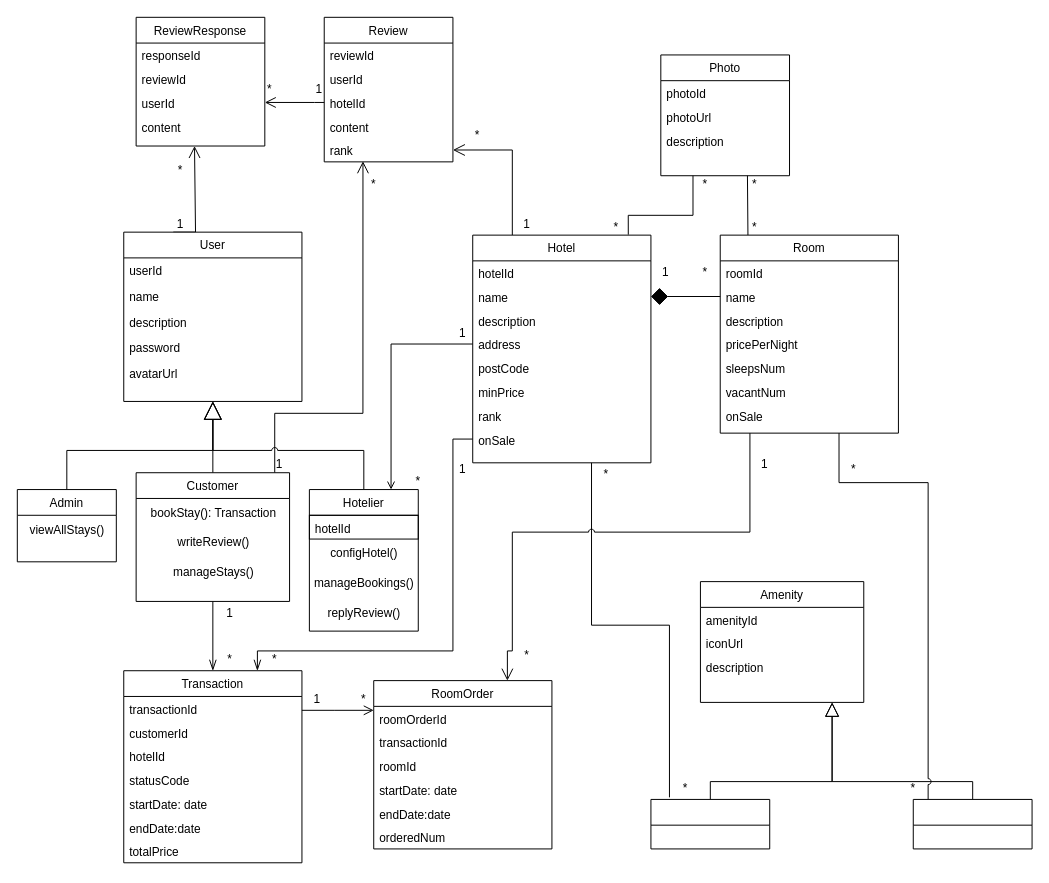
This 1049x883 diagram has some shape labels left out. Here are the shapes that lost their labels. From the top down, the centre of each, then its label:
At point 710,823: "HotelAmenity".
At point 972,823: "RoomAmenity".
